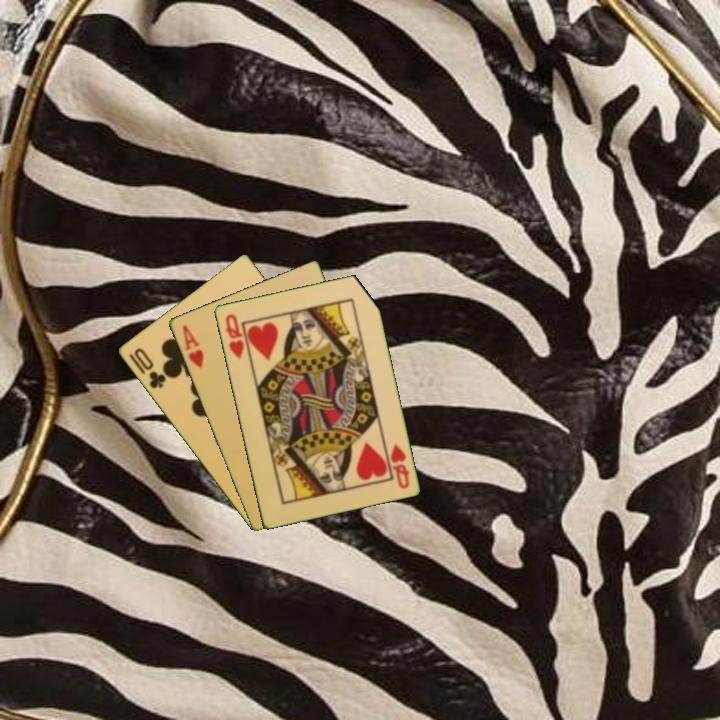10c: (130, 344, 169, 391)
Ah: (178, 321, 206, 371)
Qh: (221, 310, 247, 362), (386, 440, 412, 492)
